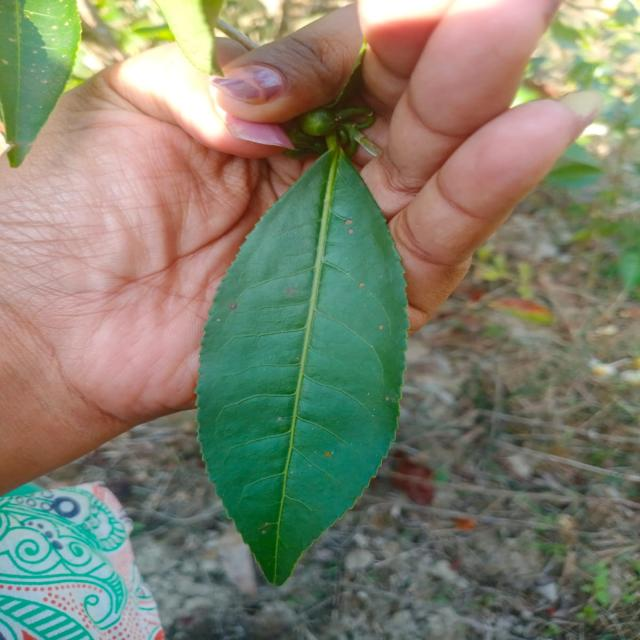Category D 7+ days, Not for Tea: (128, 145, 551, 635)
